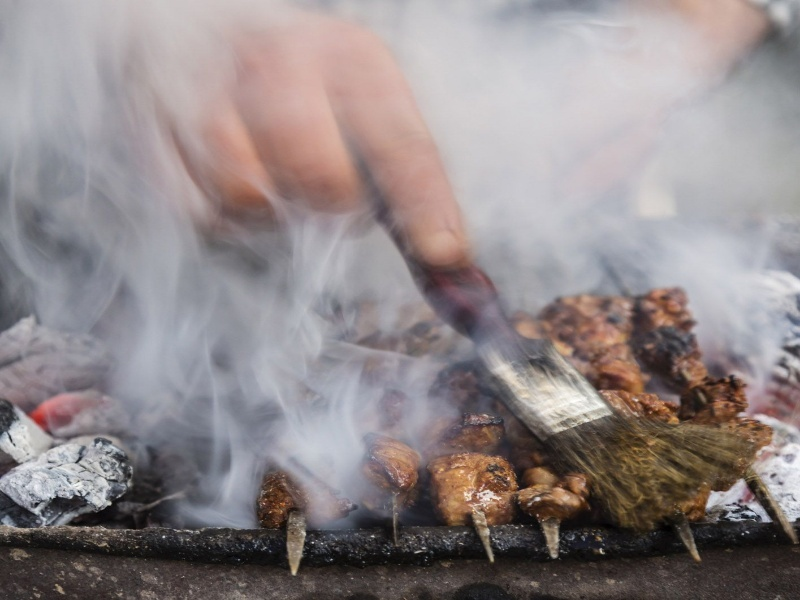smoke: (1, 1, 430, 449)
